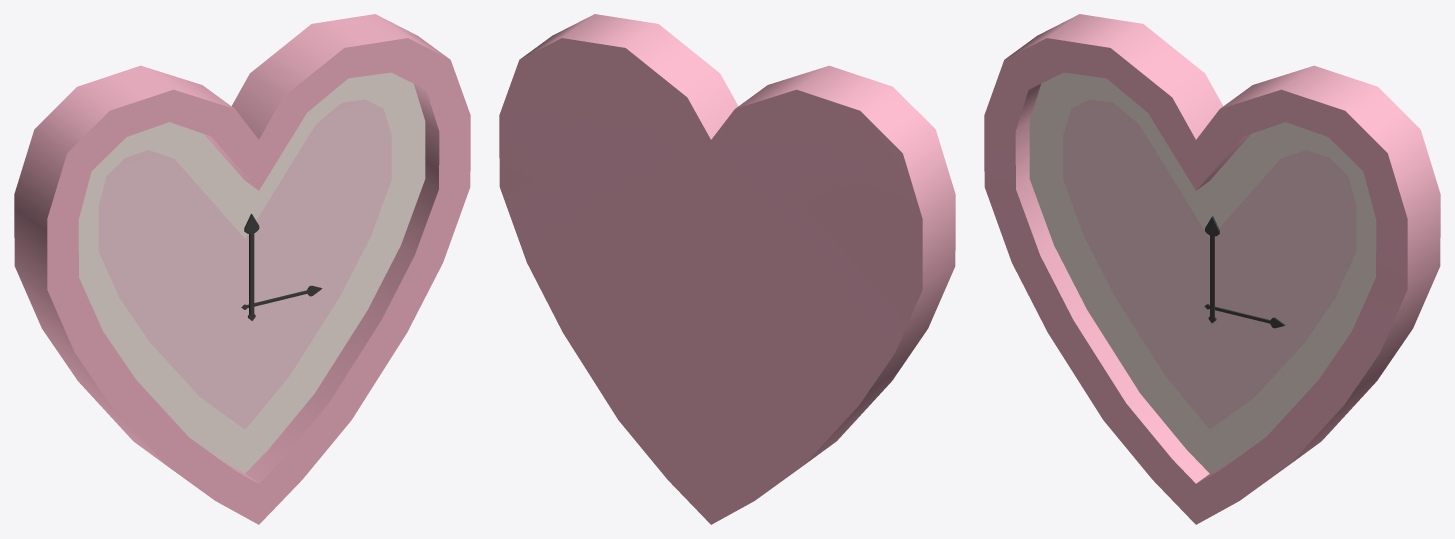
Rendered from clock_K.fbx.
The picture shows the model from 3 angles, left to right: view 1: azimuth 30°, elevation 25°; view 2: azimuth 150°, elevation 25°; view 3: azimuth 330°, elevation 25°; orthographic projection.
Visible parts, largest first — view 1: PaintingFrame_06, PaintingFrame_06.002, PaintingFrame_06.001, WallClock_05_Minute; view 2: PaintingFrame_06; view 3: PaintingFrame_06, PaintingFrame_06.002, PaintingFrame_06.001, WallClock_05_Minute.
Boxes of the visible parts, x1,y1,x2,y2 form: PaintingFrame_06: [14, 14, 470, 524]; PaintingFrame_06.002: [98, 99, 391, 428]; PaintingFrame_06.001: [78, 72, 425, 473]; WallClock_05_Minute: [241, 214, 322, 320]; PaintingFrame_06: [499, 14, 955, 524]; PaintingFrame_06: [984, 14, 1440, 524]; PaintingFrame_06.002: [1063, 99, 1356, 428]; PaintingFrame_06.001: [1029, 72, 1376, 473]; WallClock_05_Minute: [1204, 216, 1285, 328].
Size of the model in its own units: 48.44 by 49.88 by 6.56.
